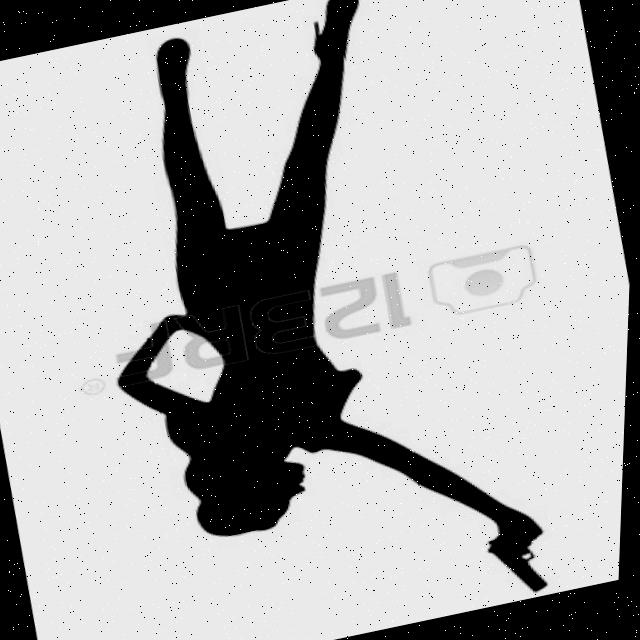pistol: (486, 528, 558, 602)
